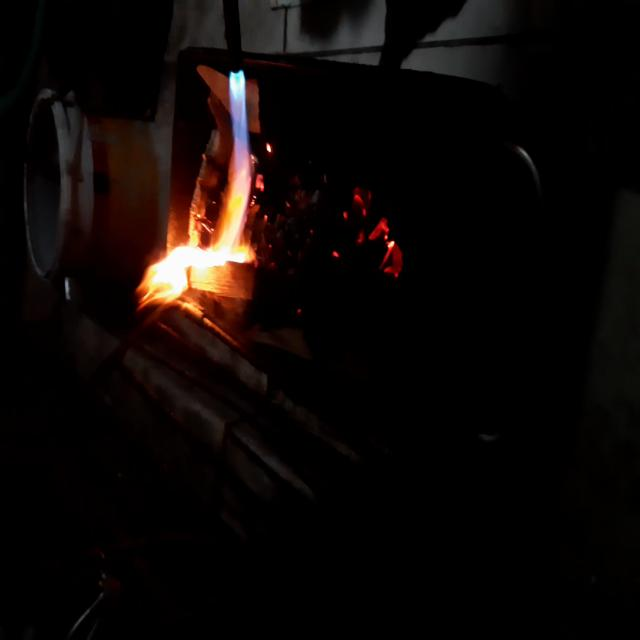Fire: (135, 68, 262, 338), (323, 167, 415, 310)
